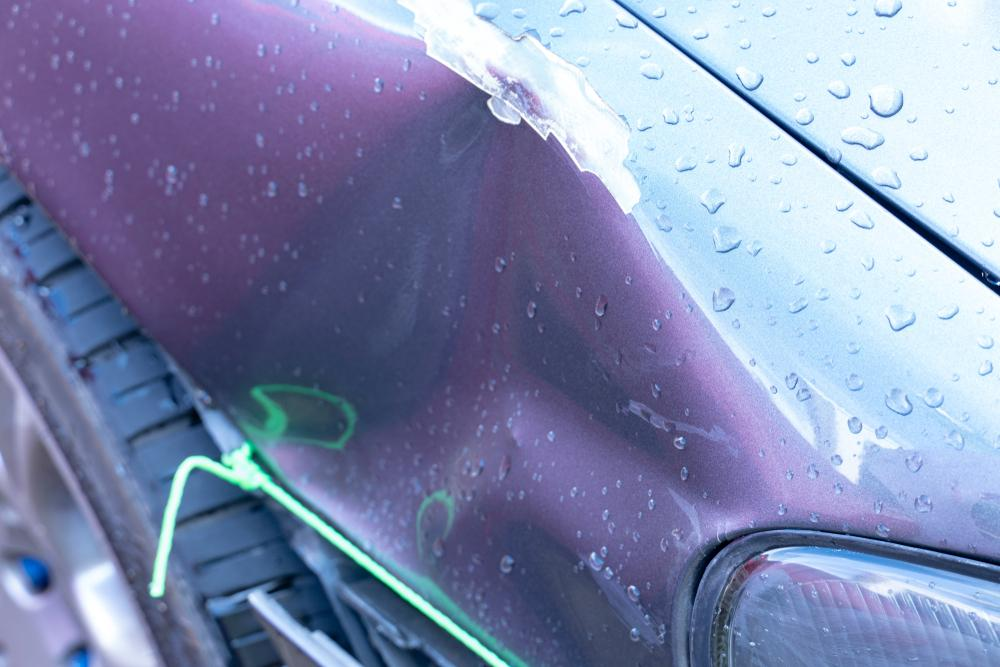dent: (217, 99, 762, 667)
